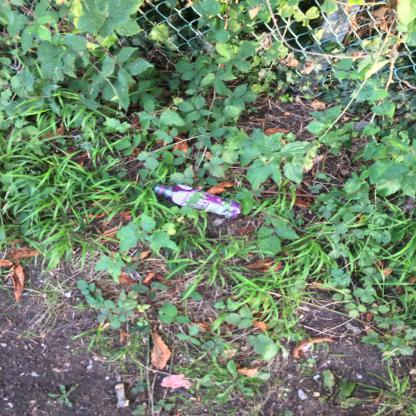plastik: (154, 183, 244, 221)
